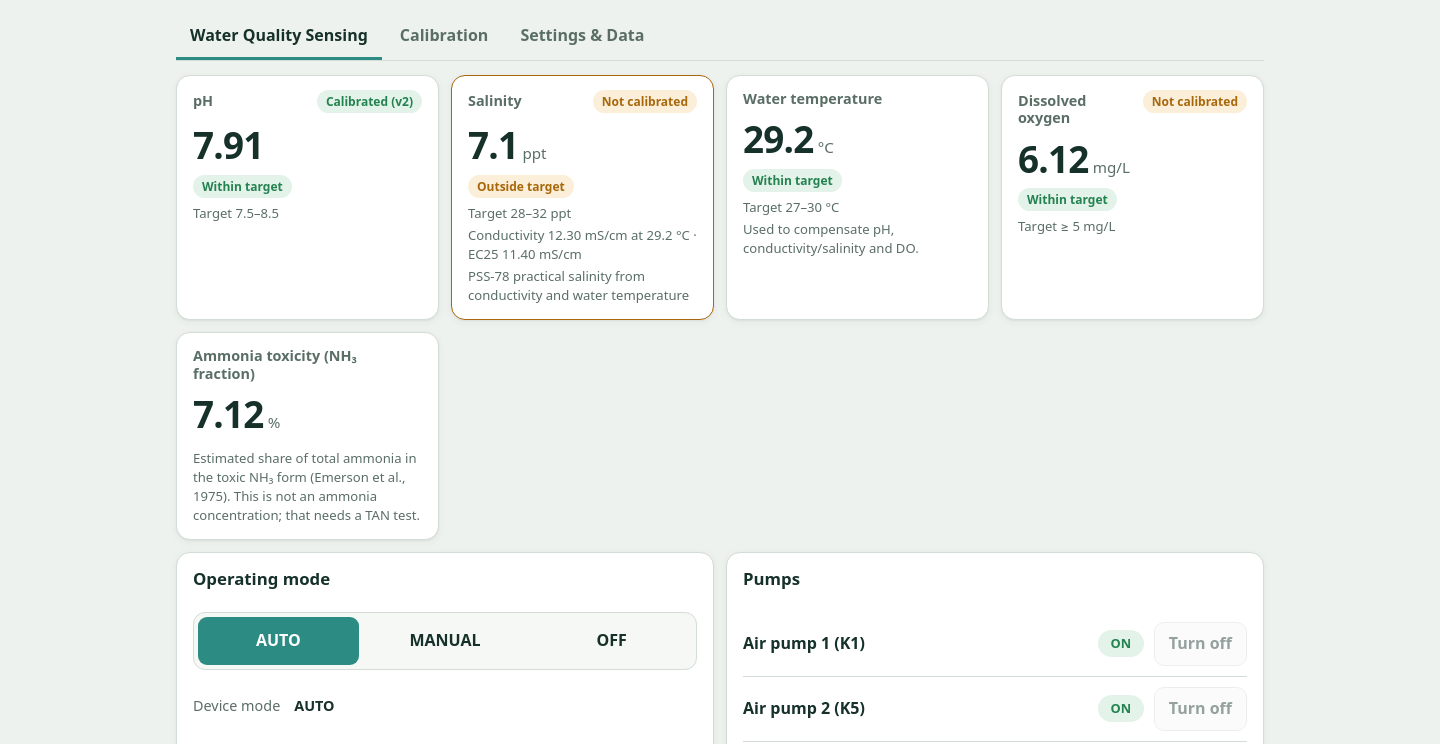
Test: Calibration tab › has pH, EC (K = 1), DO and ammonia sections and no temperature calibration
Step 1. Click the tab "Calibration" → (444, 37), box [386,14,502,60]
(page scrolled)
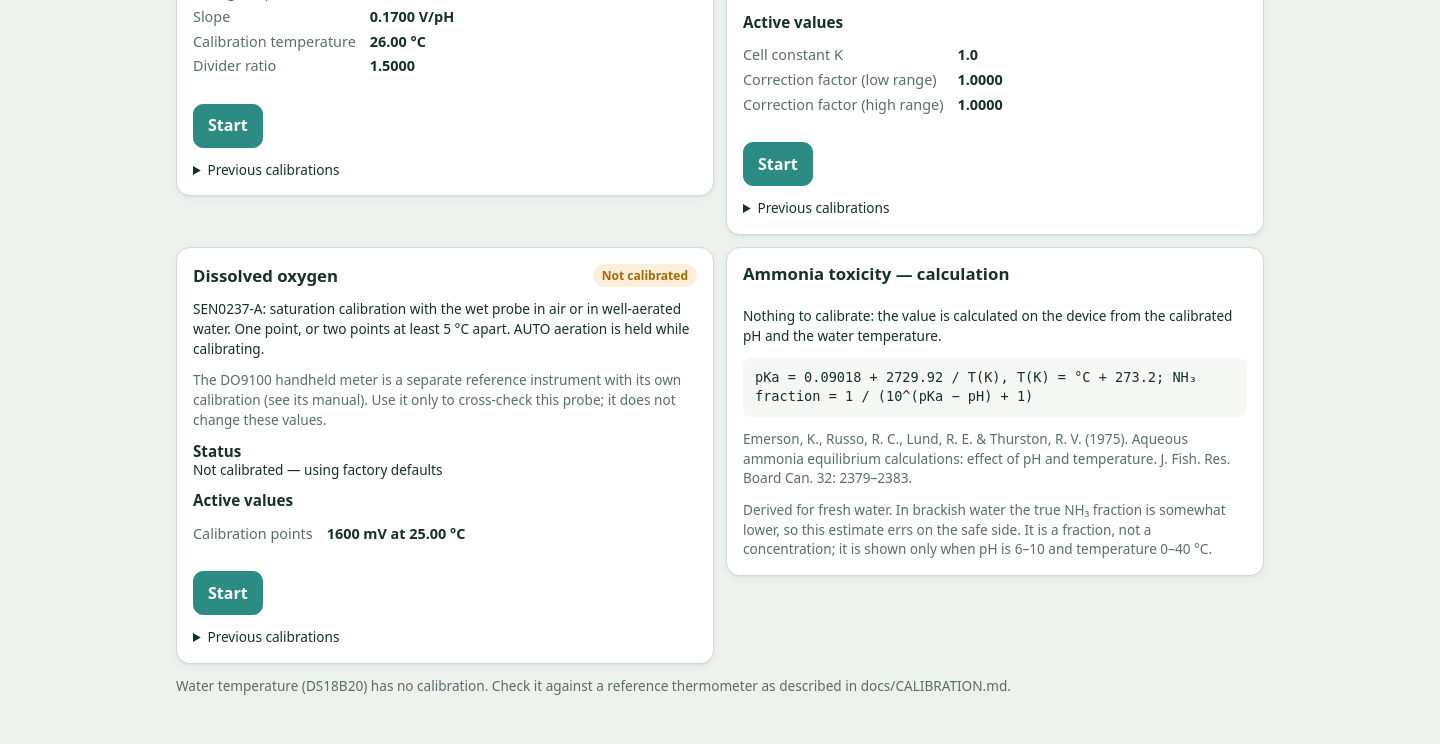
expect the element with test id "cal-do" is shown: met, box [176,247,714,664]
expect the element with test id "cal-nh3" is shown: met, box [726,247,1264,576]
expect the text with test id "ec-k" reads "1.0": met, box [958,45,978,64]
